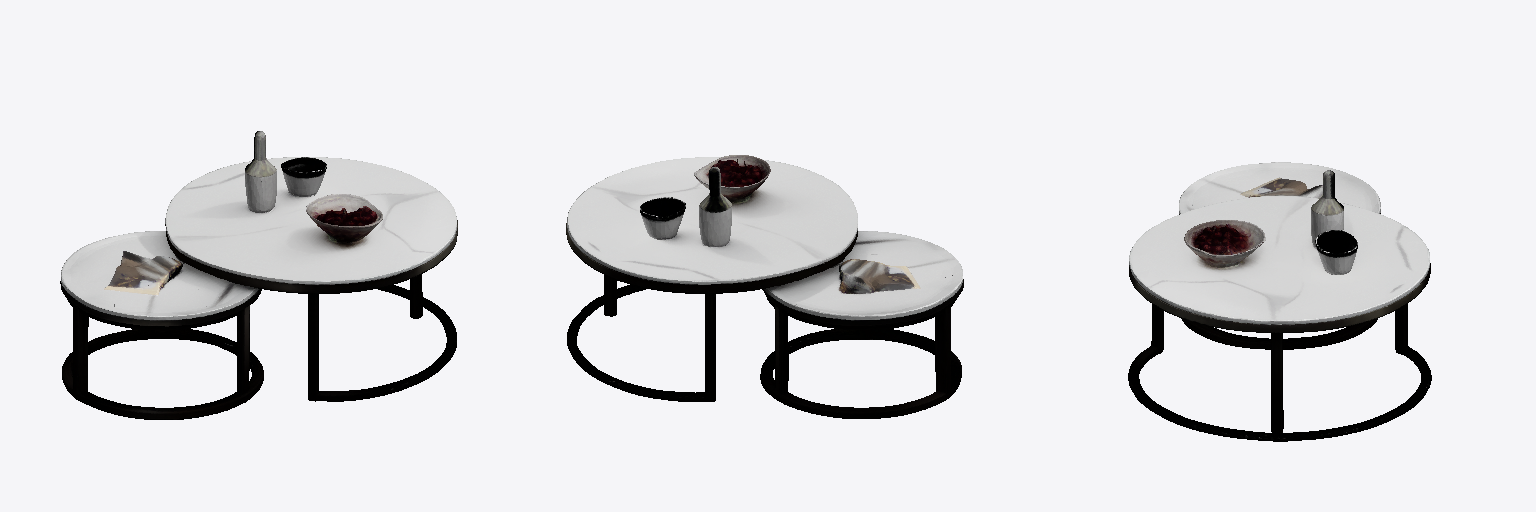
3 views of the same model, side by side, from view 1: azimuth 30°, elevation 25°; view 2: azimuth 150°, elevation 25°; view 3: azimuth 270°, elevation 25° (orthographic).
Parts seen in each view (by area): view 1: livingroom_table; view 2: livingroom_table; view 3: livingroom_table.
Boxes of the visible parts, <box> form: livingroom_table: <box>60,131,457,419</box>; livingroom_table: <box>566,155,963,418</box>; livingroom_table: <box>1128,162,1431,441</box>.
Bounding box in the file's own units: 6.69 × 3.51 × 4.86.
Materials: 1 (1 with a texture image).